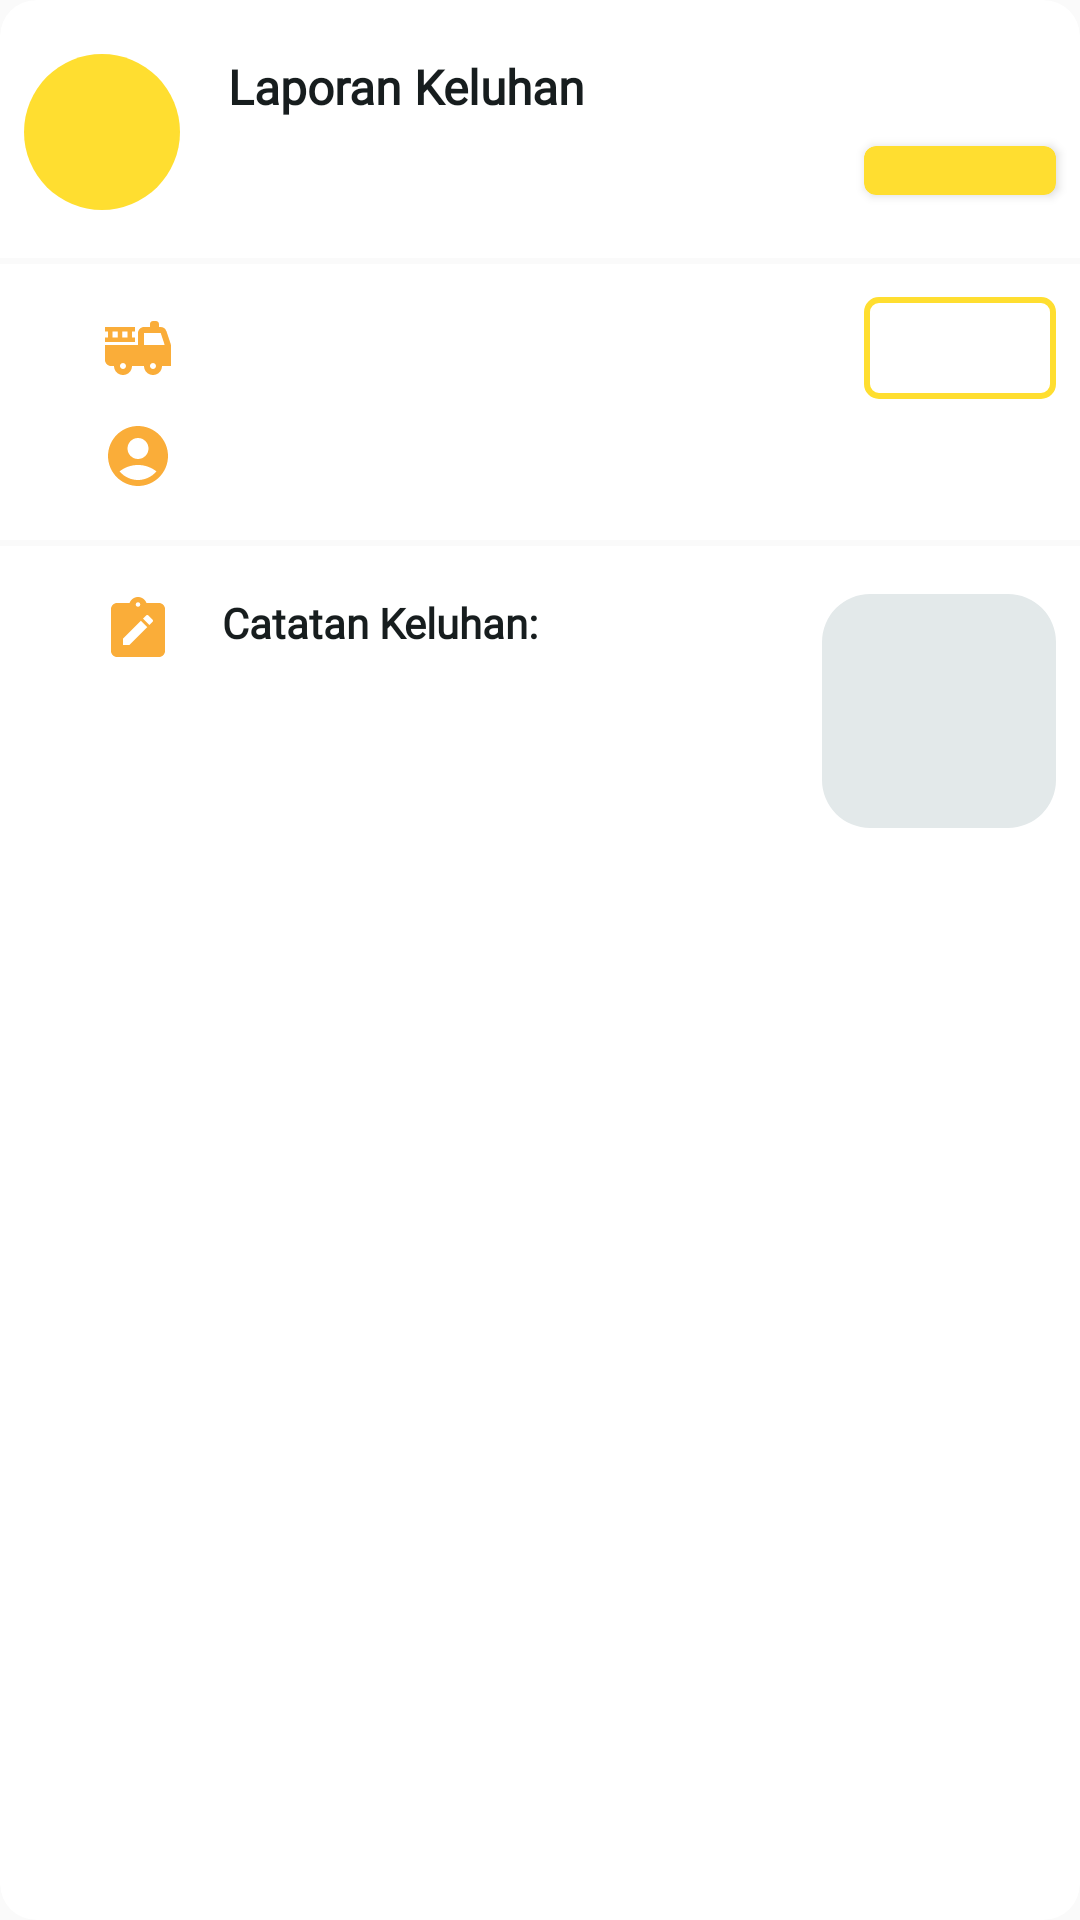

Icon bounding boxes for this 1080px x 1920px phone screenshot, format {"left": x1, "top": y1, "right": x2, "bottom": y2}:
note: {"left": 111, "top": 597, "right": 165, "bottom": 657}
profile: {"left": 108, "top": 426, "right": 168, "bottom": 486}
truck: {"left": 105, "top": 321, "right": 171, "bottom": 375}
